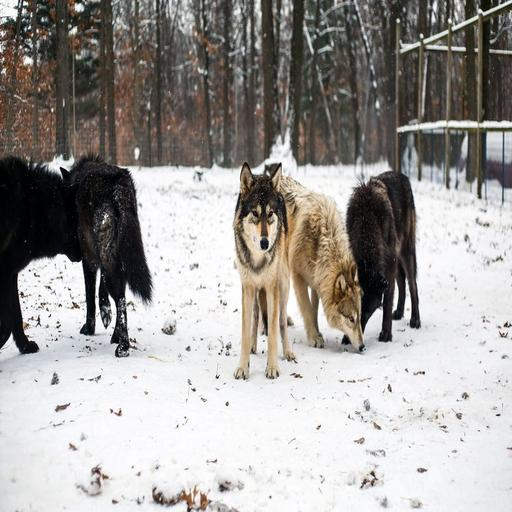Wolf: (234, 167, 369, 350), (56, 153, 154, 360), (0, 153, 90, 365), (340, 165, 425, 353), (226, 162, 293, 379)
